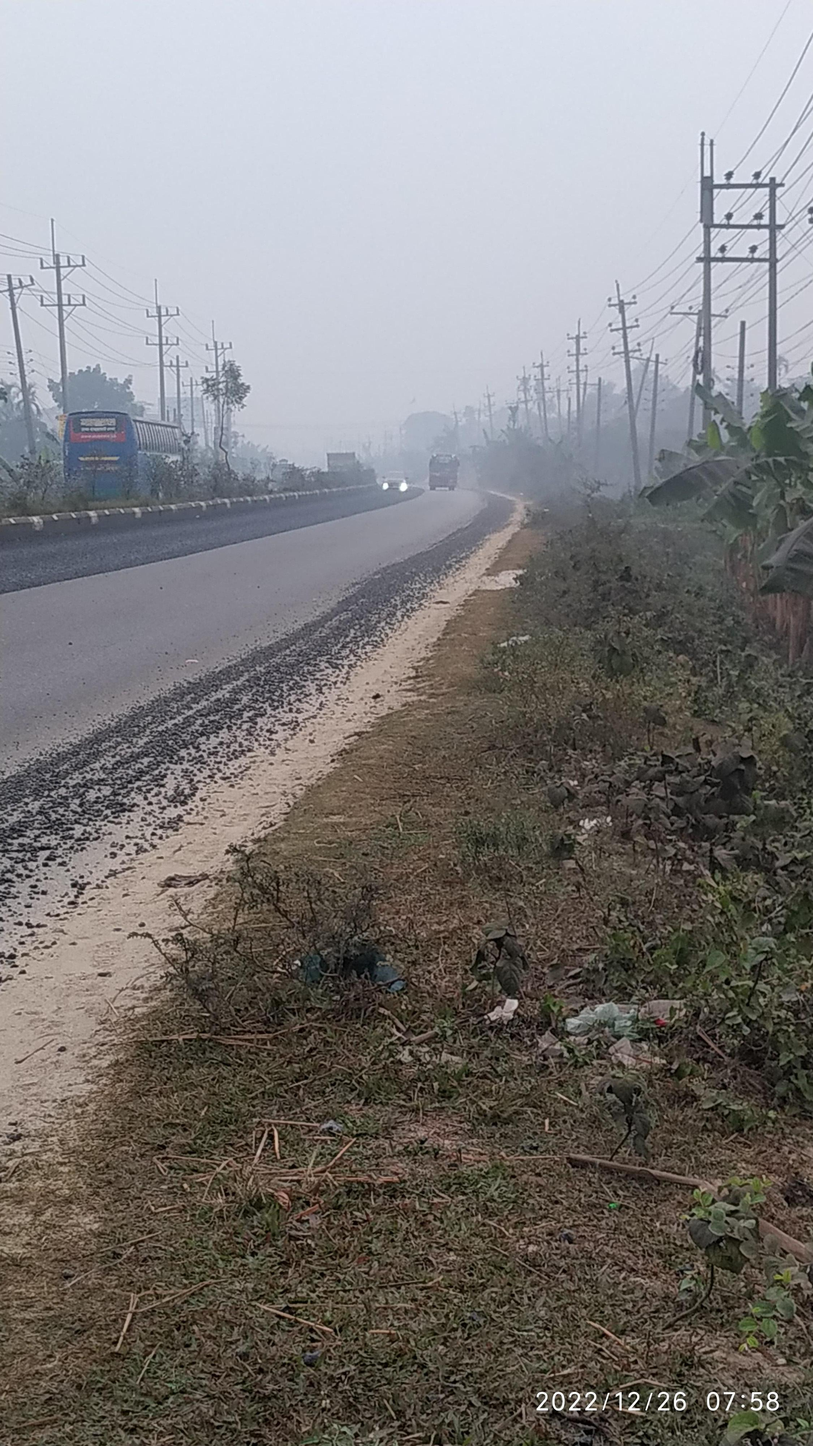Bus: (48, 392, 209, 517), (418, 440, 473, 508)
